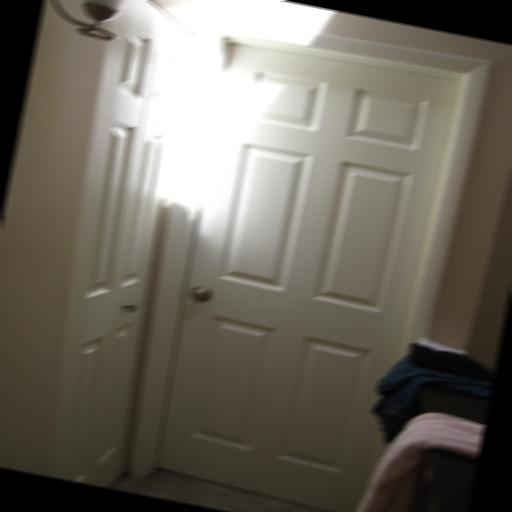Door: (144, 29, 469, 512), (21, 0, 214, 490)
